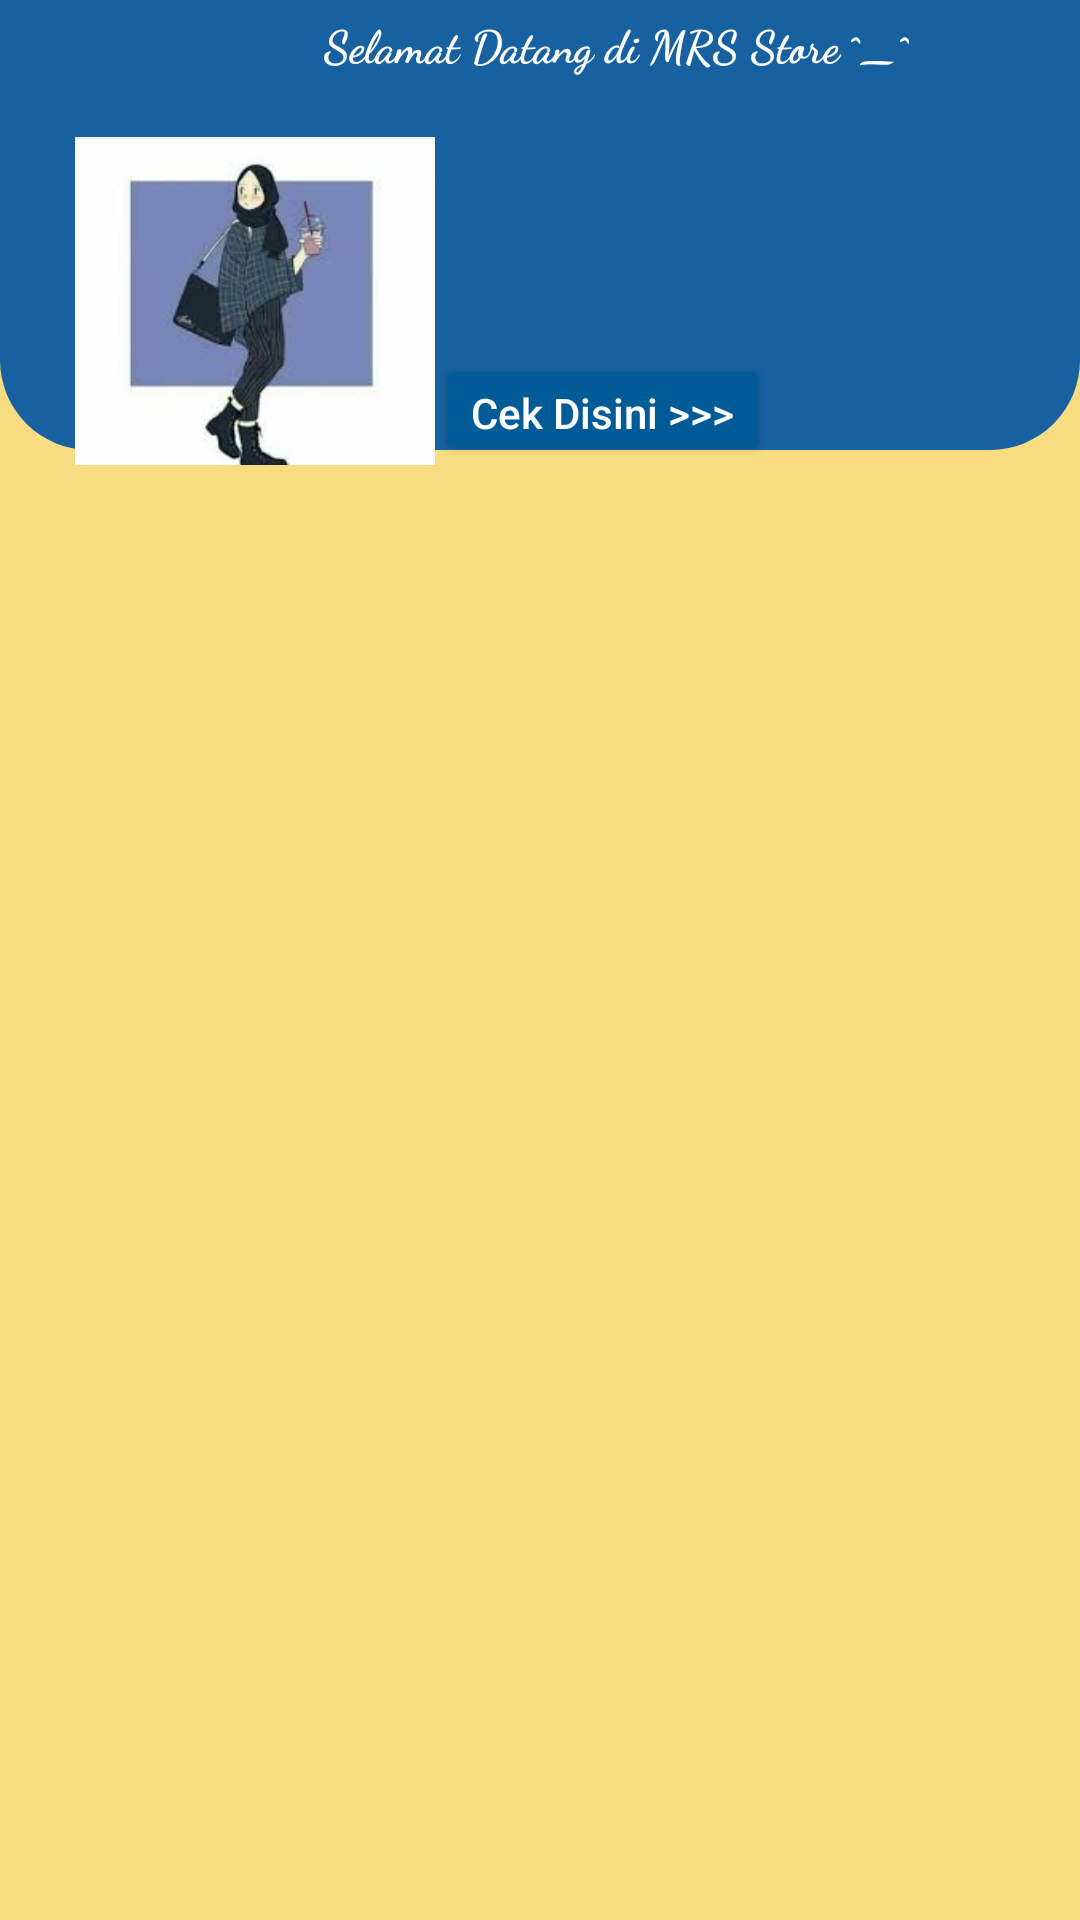

Icon bounding boxes for this 1080px x 1920px phone screenshot, format (x1, y1, x2, y2):
baju: (75, 137, 435, 495)
